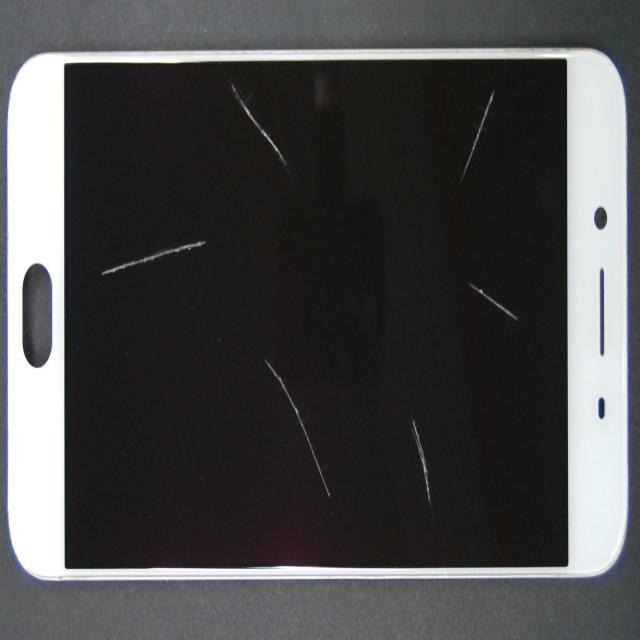scratch: (262, 357, 332, 503), (223, 81, 288, 166), (102, 233, 207, 275), (455, 87, 498, 189), (466, 280, 520, 326), (414, 414, 436, 513)
